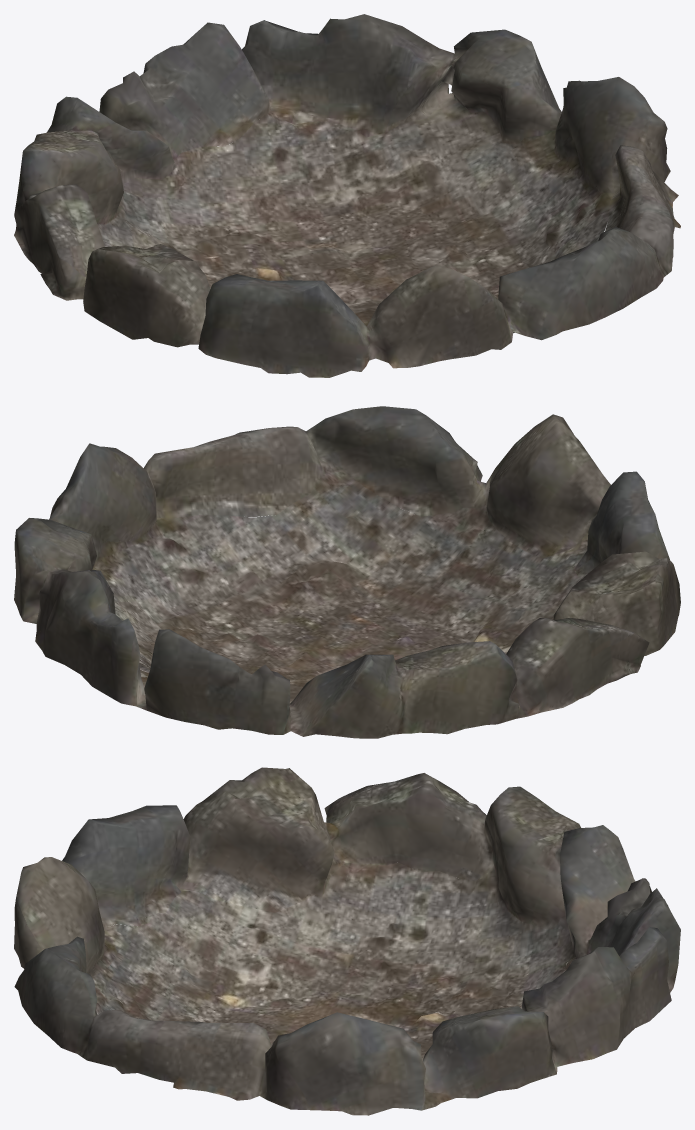
The model's file is stone_fire_pit.gltf.
3 renders of one model, top to bottom at view 1: azimuth 30°, elevation 25°; view 2: azimuth 150°, elevation 25°; view 3: azimuth 270°, elevation 25°, orthographic.
Visible parts, largest first — view 1: stone_fire_pit; view 2: stone_fire_pit; view 3: stone_fire_pit.
Part boxes in pixels (<box>): stone_fire_pit: <box>14,14,680,377</box>; stone_fire_pit: <box>14,406,680,738</box>; stone_fire_pit: <box>14,767,680,1115</box>.
Size of the model in its own units: 1.45 by 0.3883 by 1.43.
Materials: 1 (1 with a texture image).
